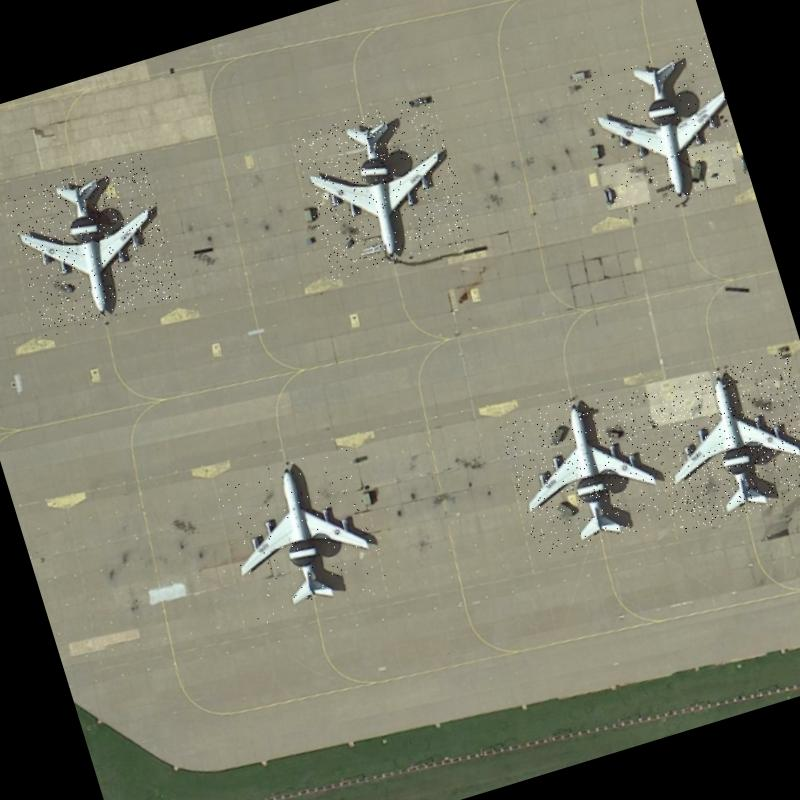A7: (289, 94, 476, 282), (2, 154, 185, 338), (497, 380, 677, 562), (575, 37, 751, 220), (214, 444, 390, 626), (640, 350, 800, 534)
